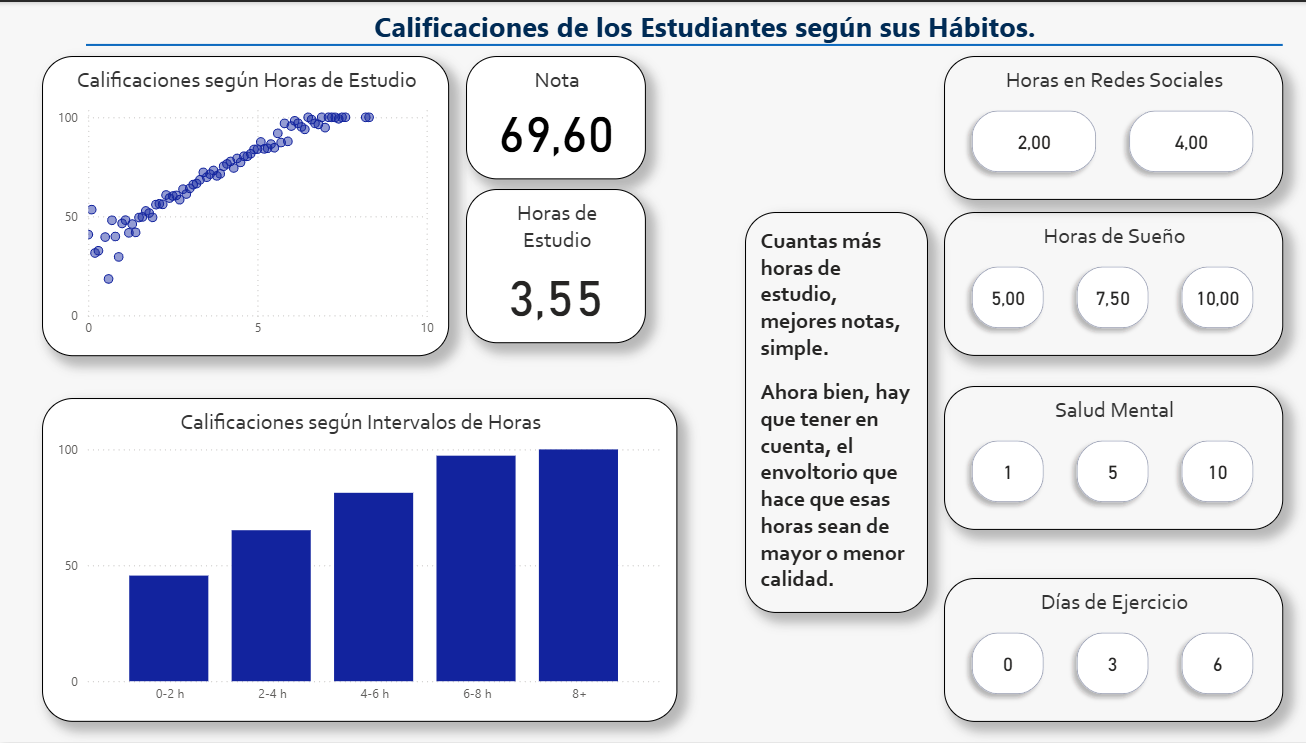

This screenshot's page, from the dashboard's own definition file:
{"tool":"powerbi","page":{"name":"Dashboard","canvas":[1280,720],"ordinal":0},"visuals":[{"type":"scatterChart","title":"Calificaciones según Horas de Estudio","fields":{"Y":["Avg(student_habits_performance_limpio.exam_score)"],"X":["student_habits_performance_limpio.study_hours_per_day"]},"box":[41.3,52.4,396.1,292.3],"z":0},{"type":"clusteredColumnChart","title":"Calificaciones según Intervalos de Horas","fields":{"Category":["student_habits_performance_limpio.intervarlos_horas"],"Y":["Avg(student_habits_performance_limpio.exam_score)"]},"box":[41.3,385,617.8,315.5],"z":1000},{"type":"card","title":"Nota","fields":{"Values":["Avg(student_habits_performance_limpio.exam_score)"]},"box":[453.5,52.4,175.4,119.9],"z":2000},{"type":"card","title":"Horas de Estudio","fields":{"Values":["Avg(student_habits_performance_limpio.study_hours_per_day)"]},"box":[453.5,181.4,175.4,150.2],"z":3000},{"type":"textbox","box":[300,0,772,60.5],"z":4000},{"type":"advancedSlicerVisual","title":"Horas de Sueño","fields":{"Values":["student_habits_performance_limpio.sleep_hours"]},"box":[918.2,204.6,329.6,140.1],"z":5000},{"type":"advancedSlicerVisual","title":"Salud Mental","fields":{"Values":["student_habits_performance_limpio.mental_health_rating"]},"box":[918.2,373.9,329.6,140.1],"z":6000},{"type":"advancedSlicerVisual","title":"Horas en Redes Sociales","fields":{"Values":["student_habits_performance_limpio.social_media_hours"]},"box":[918.2,52.4,329.6,140.1],"z":7000},{"type":"advancedSlicerVisual","title":"Días de Ejercicio","fields":{"Values":["student_habits_performance_limpio.exercise_frequency"]},"box":[918.2,560.4,329.6,140.1],"z":8000},{"type":"shape","box":[83.7,15.1,1164.1,52.4],"z":9000},{"type":"textbox","box":[724.6,204.3,178,390],"z":10000}]}

Visuals, with their boxes in screenshot pixels (x1, y1, x2, y2), scaled from the page's 1280x720 canvas onto the 1306x743 screenshot:
"Calificaciones según Horas de Estudio" scatterChart: pyautogui.locateOnScreen(42, 54, 446, 356)
"Calificaciones según Intervalos de Horas" clusteredColumnChart: pyautogui.locateOnScreen(42, 397, 672, 723)
"Nota" card: pyautogui.locateOnScreen(463, 54, 642, 178)
"Horas de Estudio" card: pyautogui.locateOnScreen(463, 187, 642, 342)
textbox: pyautogui.locateOnScreen(306, 0, 1094, 62)
"Horas de Sueño" advancedSlicerVisual: pyautogui.locateOnScreen(937, 211, 1273, 356)
"Salud Mental" advancedSlicerVisual: pyautogui.locateOnScreen(937, 386, 1273, 530)
"Horas en Redes Sociales" advancedSlicerVisual: pyautogui.locateOnScreen(937, 54, 1273, 199)
"Días de Ejercicio" advancedSlicerVisual: pyautogui.locateOnScreen(937, 578, 1273, 723)
shape: pyautogui.locateOnScreen(85, 16, 1273, 70)
textbox: pyautogui.locateOnScreen(739, 211, 921, 613)
